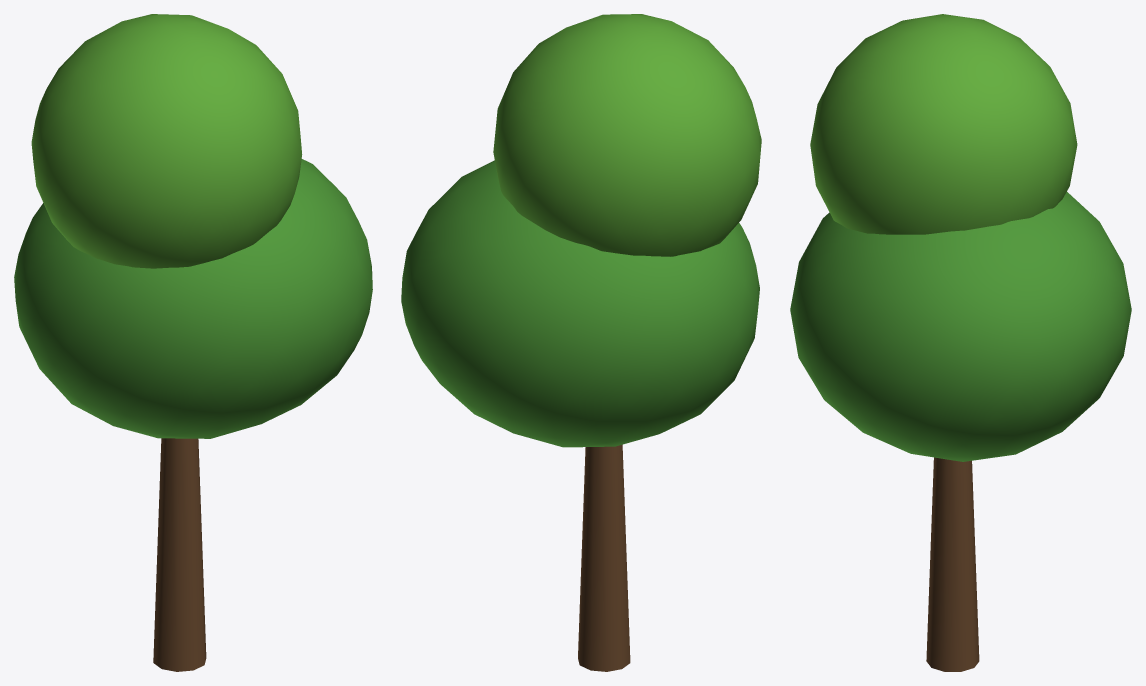
File: prop_tree_deciduous_1.glb
3 renders of one model, left to right at view 1: azimuth 30°, elevation 25°; view 2: azimuth 150°, elevation 25°; view 3: azimuth 270°, elevation 25°, orthographic. The views are drawn at different scales.
Parts seen in each view (by area): view 1: CrownLow, CrownHigh, Trunk; view 2: CrownLow, CrownHigh, Trunk; view 3: CrownLow, CrownHigh, Trunk.
Boxes of the visible parts, x1,y1,x2,y2 form: CrownLow: (14,159,372,438); CrownHigh: (31,14,302,268); Trunk: (153,438,206,671); CrownLow: (401,160,759,447); CrownHigh: (493,14,761,256); Trunk: (578,444,630,671); CrownLow: (790,192,1131,461); CrownHigh: (810,14,1077,234); Trunk: (926,457,979,671).
Bounding box in the file's own units: 3.53 × 6.8 × 3.35.
